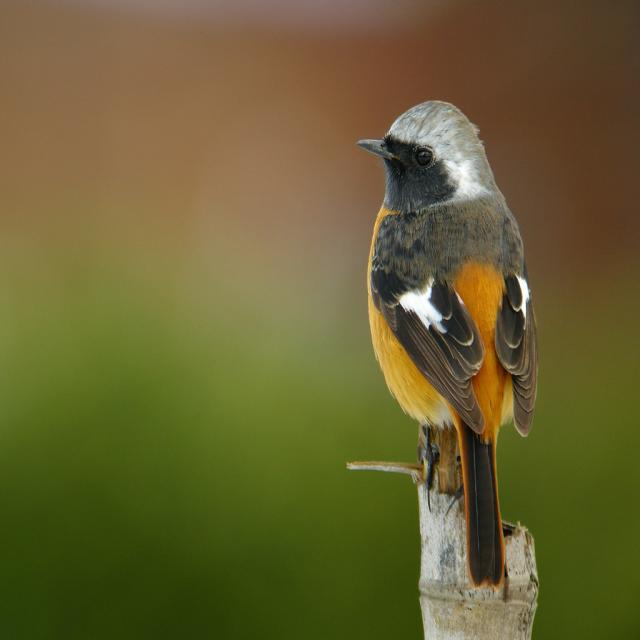bird: (341, 82, 549, 594)
